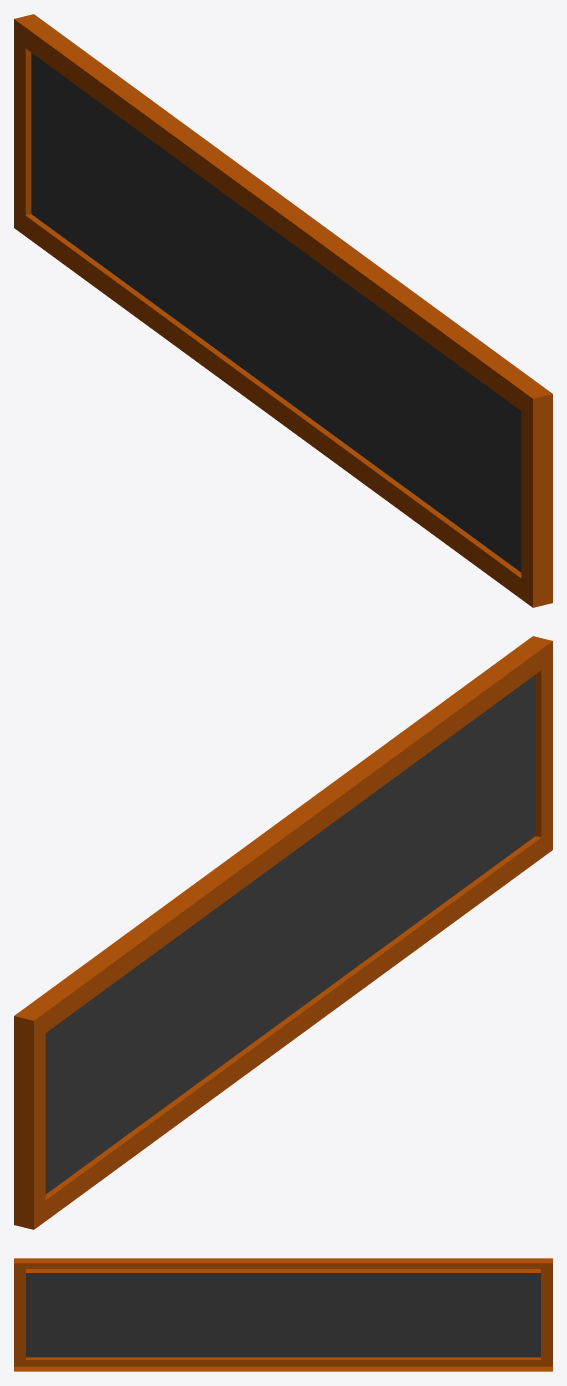
File: Window2.FBX
The picture shows the model from 3 angles, top to bottom: view 1: azimuth 30°, elevation 25°; view 2: azimuth 150°, elevation 25°; view 3: azimuth 270°, elevation 25°; orthographic projection. The views are drawn at different scales.
Visible parts, largest first — view 1: Window2; view 2: Window2; view 3: Window2.
Part boxes in pixels (x1,y1,x2,y2): Window2: (14,14,552,607); Window2: (14,636,552,1229); Window2: (14,1258,552,1371).
Size of the model in its own units: 10 by 100 by 450.
